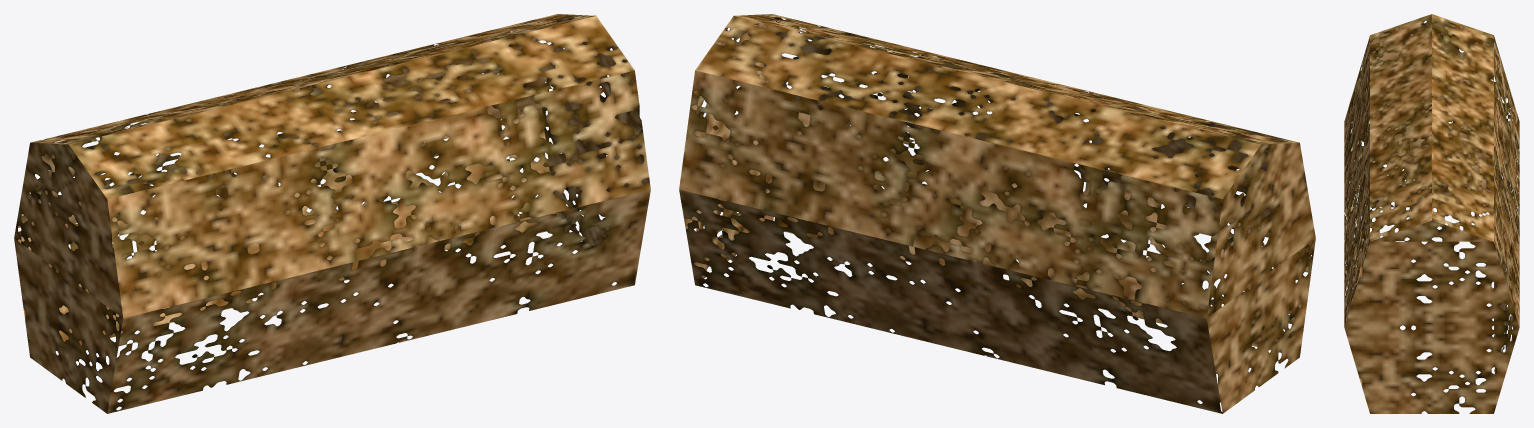
File: bush_long_autumn.fbx
3 views of the same model, side by side, from view 1: azimuth 30°, elevation 25°; view 2: azimuth 150°, elevation 25°; view 3: azimuth 270°, elevation 25° (orthographic). The views are drawn at different scales.
Visible parts, largest first — view 1: bush_long_autumn; view 2: bush_long_autumn; view 3: bush_long_autumn.
Boxes of the visible parts, x1,y1,x2,y2 form: bush_long_autumn: (14, 14, 650, 413); bush_long_autumn: (679, 14, 1315, 413); bush_long_autumn: (1344, 14, 1519, 413).
Size of the model in its own units: 201 by 87.65 by 71.91.
1 material, 1 textured.
